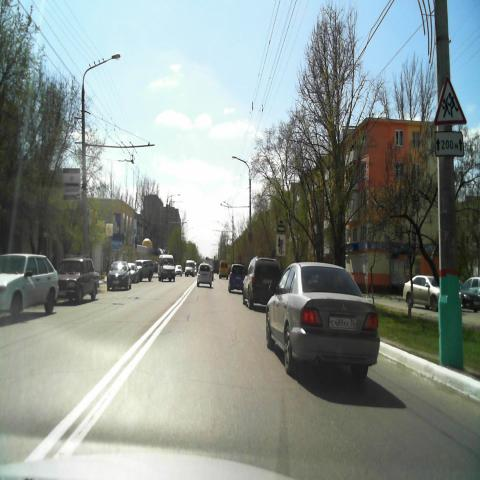8_2_1: (434, 131, 464, 156)
